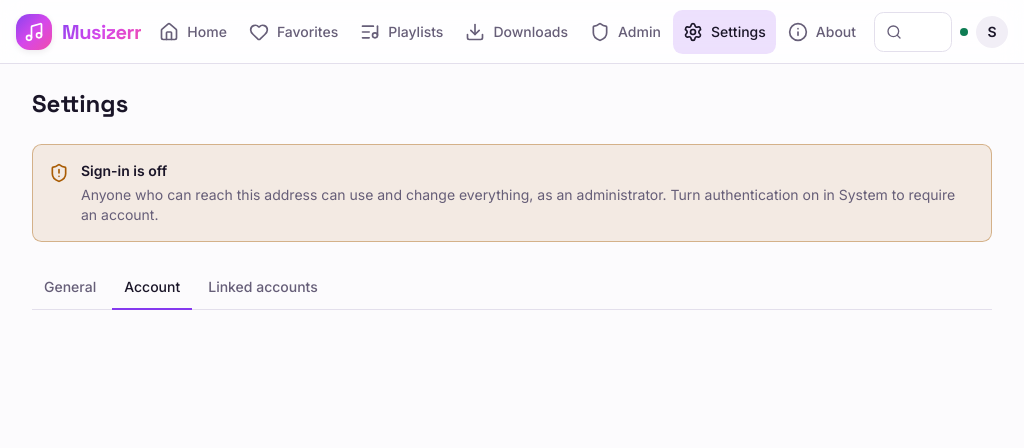
Test case: auth states — settings entry, account menu, settings page › authentication disabled: settings page renders, entries visible at both widths, no account menu, Account tab shown with nothing to display
The image size is (1024, 448).
Expected: the heading "Settings" is shown, [32,88,128,119]
Expected: the message shows "Sign-in is off", [81,162,167,179]
Click the link "General": (70, 286) [44,278,96,295]
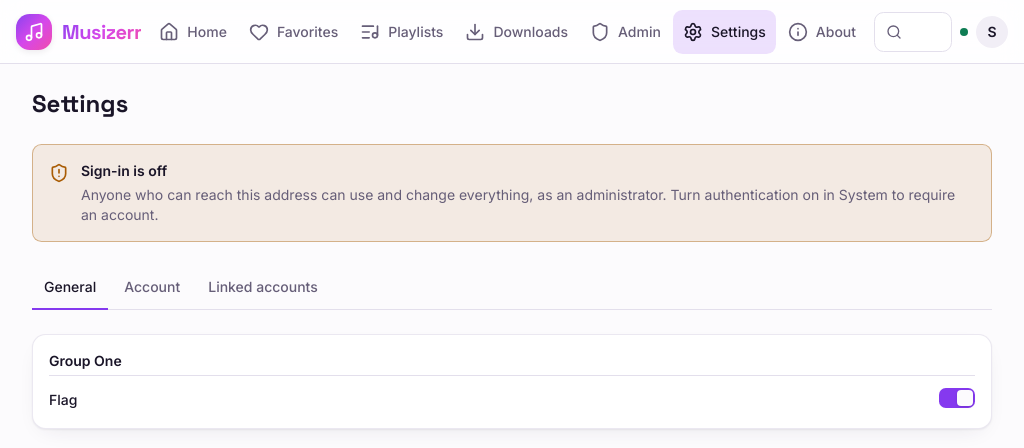
Now the heading "Group One" is shown, box [49,352,122,369]
Now the switch is shown, box [939,388,975,408]
